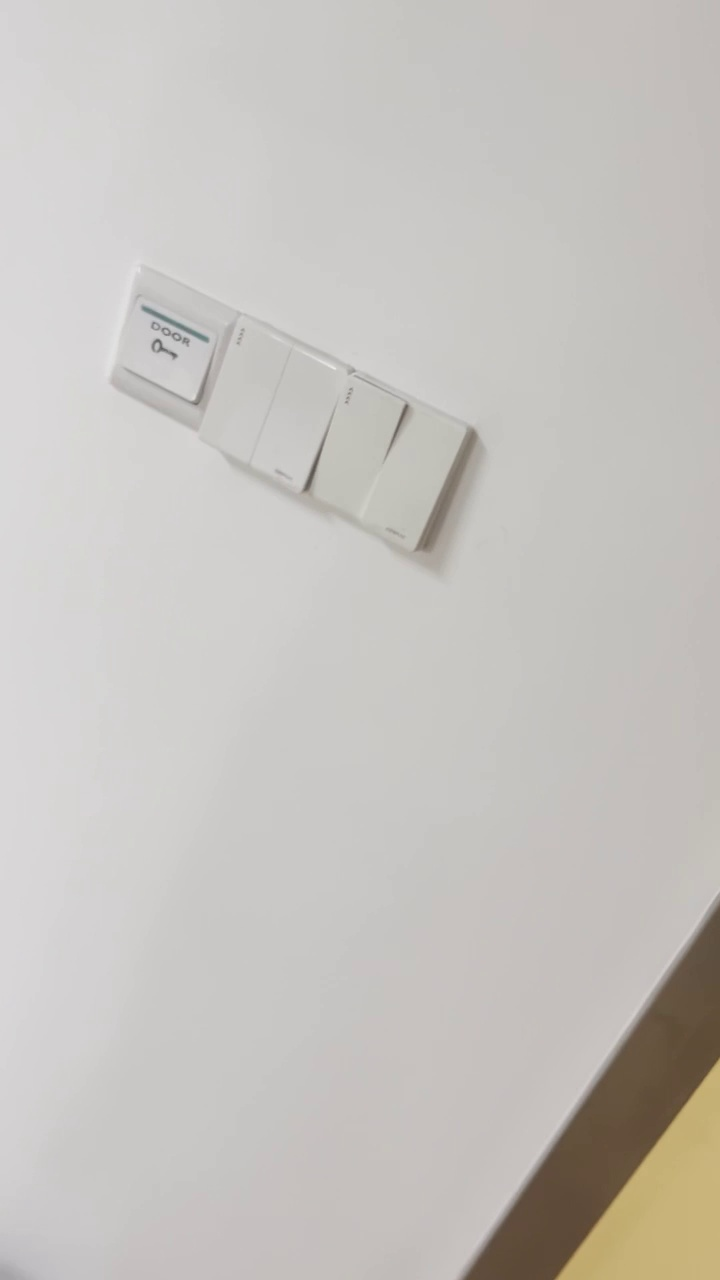button: (312, 371, 480, 562), (196, 314, 362, 495)
